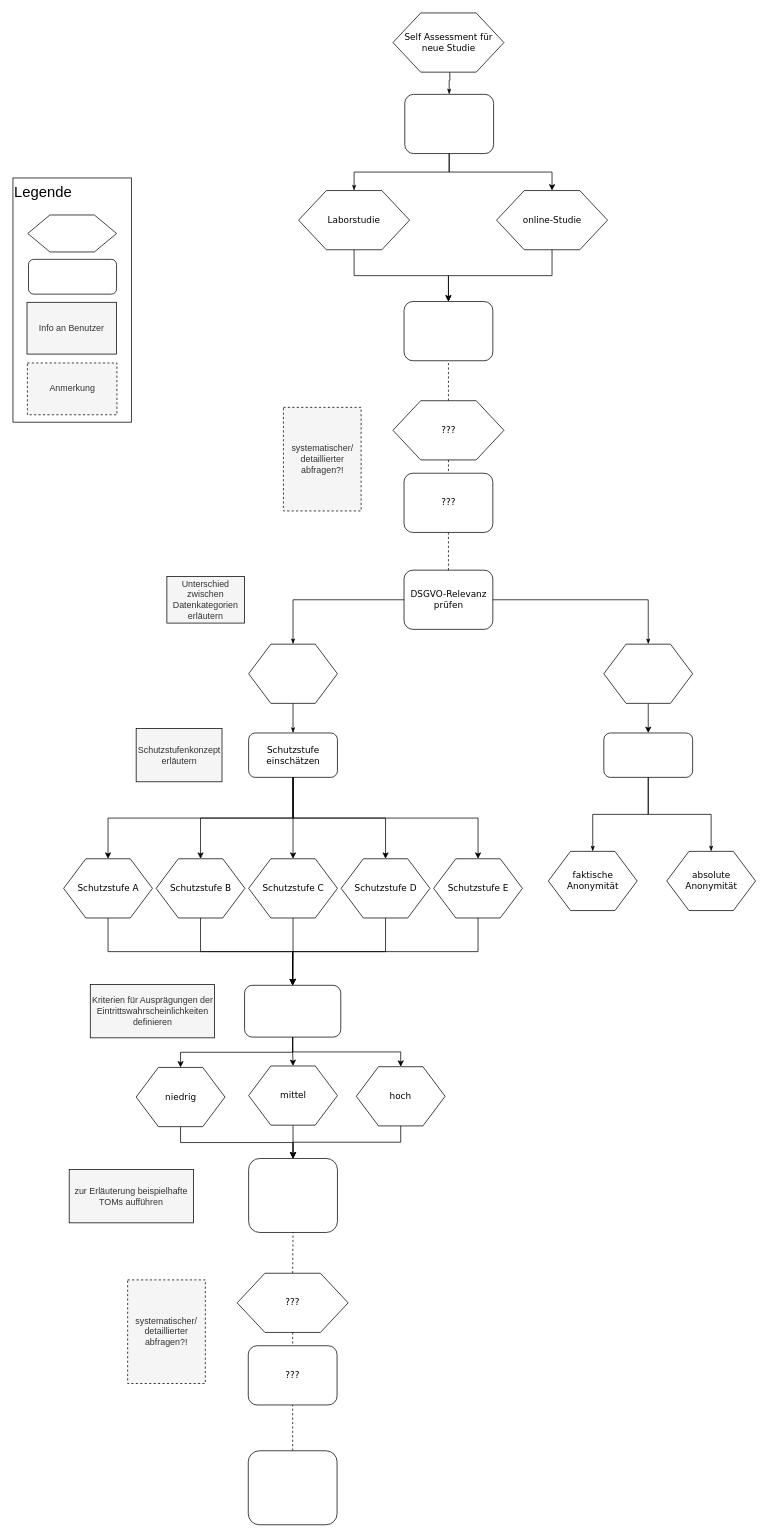
Some shapes in this 769 by 1538 pixel diagram are drawn without their labels. The centre of each missing label's shape, as x and y in pixels:
anonyme Daten: pixel 648 673
Art der Studie: pixel 449 124
Eintritts-wahrscheinlichkeit für Negativszenario abschätzen: pixel 292 1011
Ereignis/ Ergebnis: pixel 72 233
Funktion: pixel 72 276
Grad der Anonymisierung prüfen: pixel 648 754
personen-bezogene Daten: pixel 292 673
Self Assessment-Ergebnisse archivieren: pixel 292 1487
Studienablauf beschreiben: pixel 448 331
technische und organisatorische Maßnahmen (TOMs) beschreiben: pixel 292 1195
